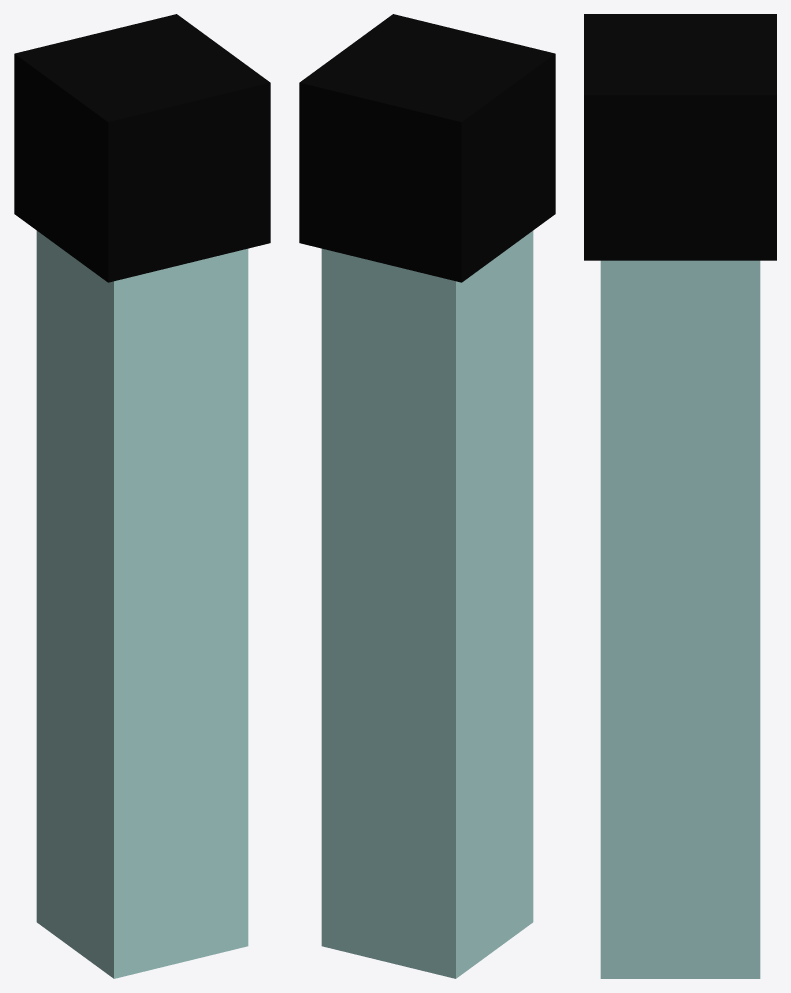
File: medicine3.fbx
3 views of the same model, side by side, from view 1: azimuth 30°, elevation 25°; view 2: azimuth 150°, elevation 25°; view 3: azimuth 270°, elevation 25° (orthographic). The views are drawn at different scales.
Visible parts, largest first — view 1: medicine3; view 2: medicine3; view 3: medicine3.
Boxes of the visible parts, <box> form: medicine3: <box>14,14,270,978</box>; medicine3: <box>299,14,555,978</box>; medicine3: <box>584,14,776,978</box>.
Bounding box in the file's own units: 0.1244 × 0.1244 × 0.6341.
